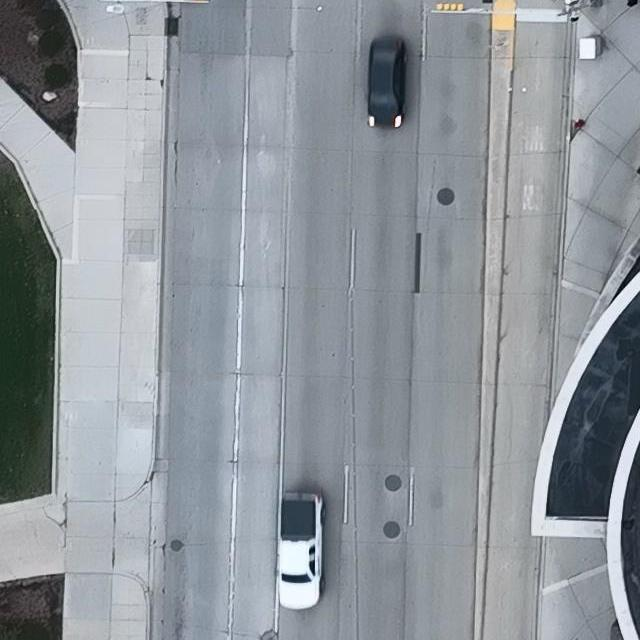car: (276, 491, 325, 609), (365, 35, 407, 128)
